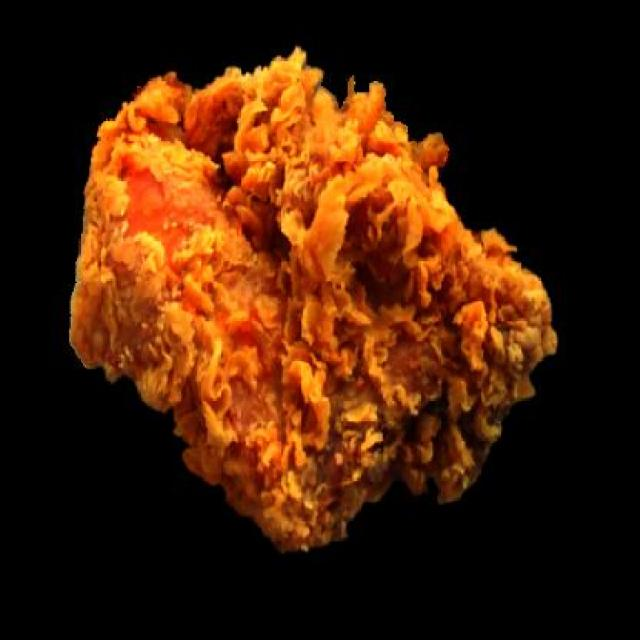Frango: (78, 44, 602, 530), (215, 292, 311, 316)
